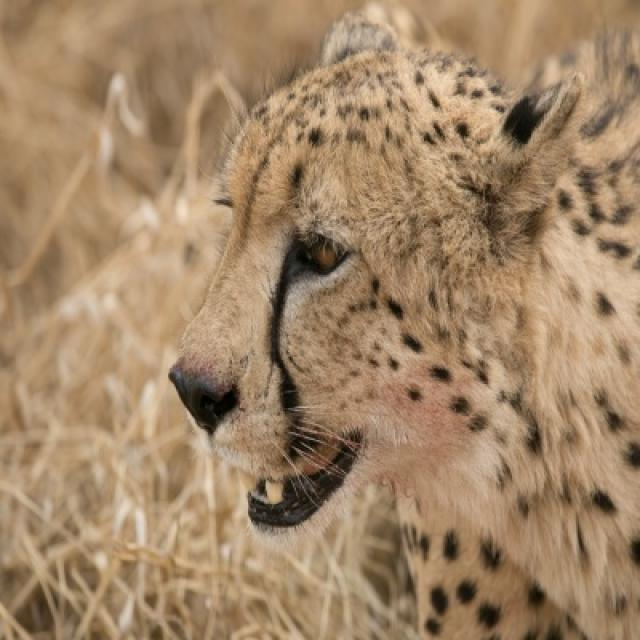Cheetah: (165, 29, 638, 638)
